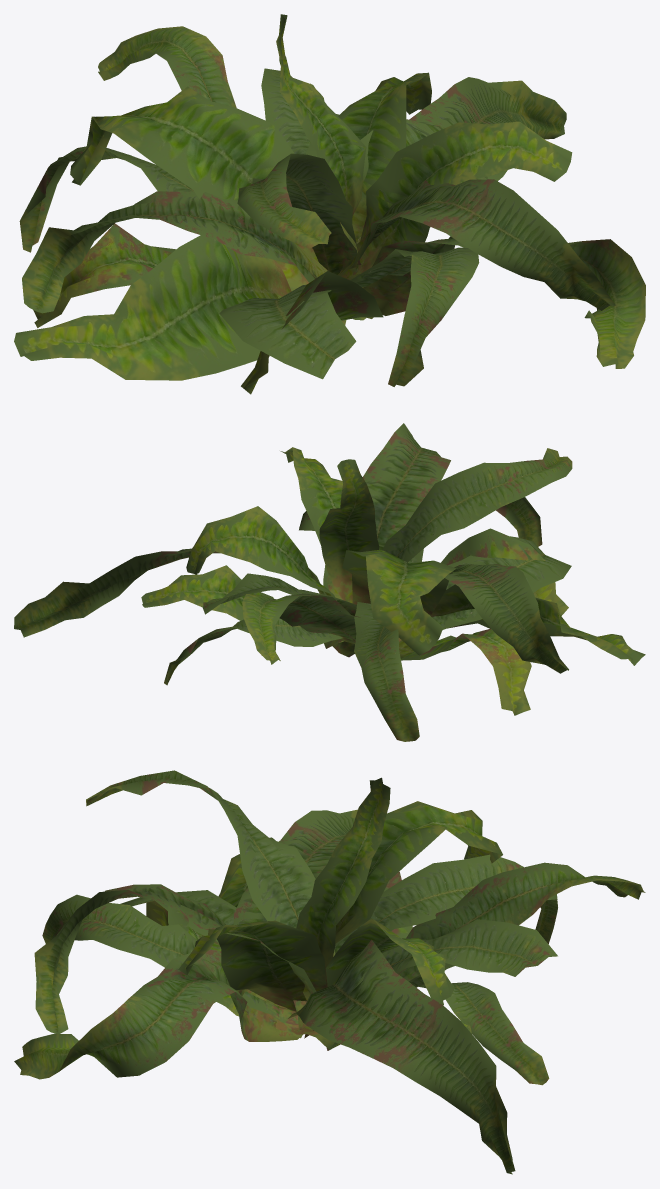
File: SM_Fern_03.gltf
The picture shows the model from 3 angles, top to bottom: view 1: azimuth 30°, elevation 25°; view 2: azimuth 150°, elevation 25°; view 3: azimuth 270°, elevation 25°; orthographic projection. The views are drawn at different scales.
Visible parts, largest first — view 1: SM_Fern_03; view 2: SM_Fern_03; view 3: SM_Fern_03.
Boxes of the visible parts, x1,y1,x2,y2 form: SM_Fern_03: (14,14,645,394); SM_Fern_03: (14,423,645,741); SM_Fern_03: (14,770,645,1174).
Bounding box in the file's own units: 0.8743 × 0.349 × 0.7652.
Materials: 1 (1 with a texture image).
